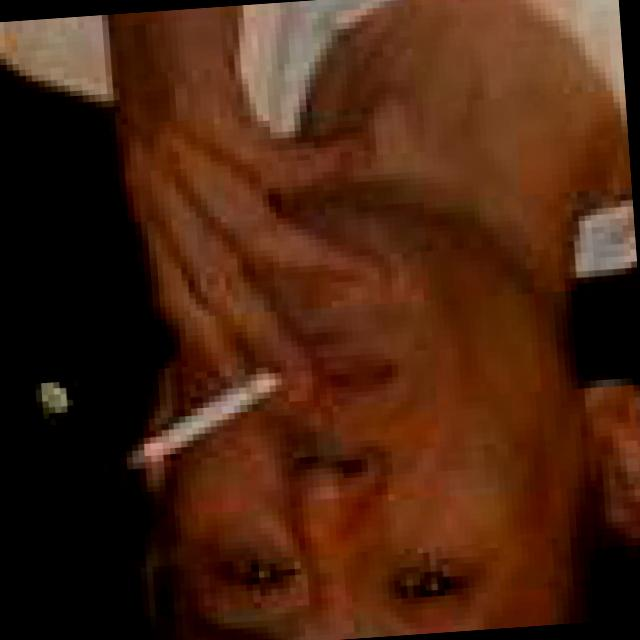smoke: (120, 352, 294, 475)
